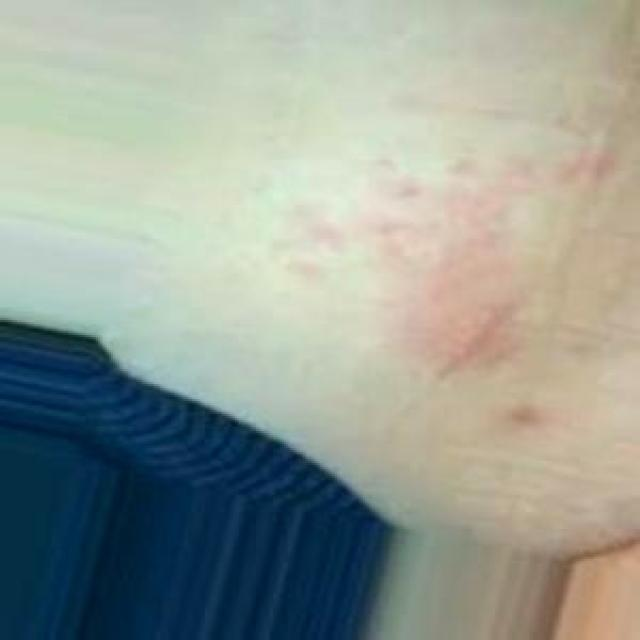Shingles: (284, 130, 604, 382)
